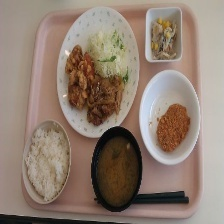rice: (23, 127, 69, 202)
